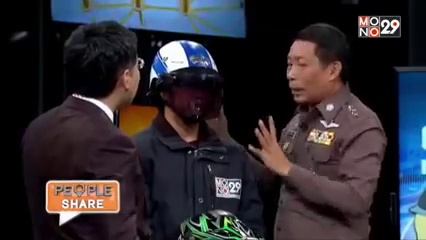helmet: (147, 35, 224, 121)
